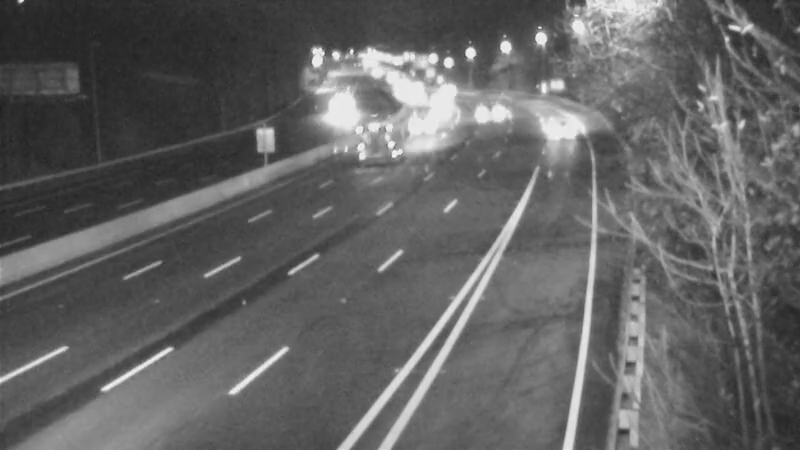vehicle: (387, 72, 437, 122), (415, 77, 465, 127), (415, 91, 465, 141), (461, 88, 511, 138), (398, 102, 448, 152), (536, 105, 586, 155), (359, 114, 409, 164), (309, 84, 359, 134)
